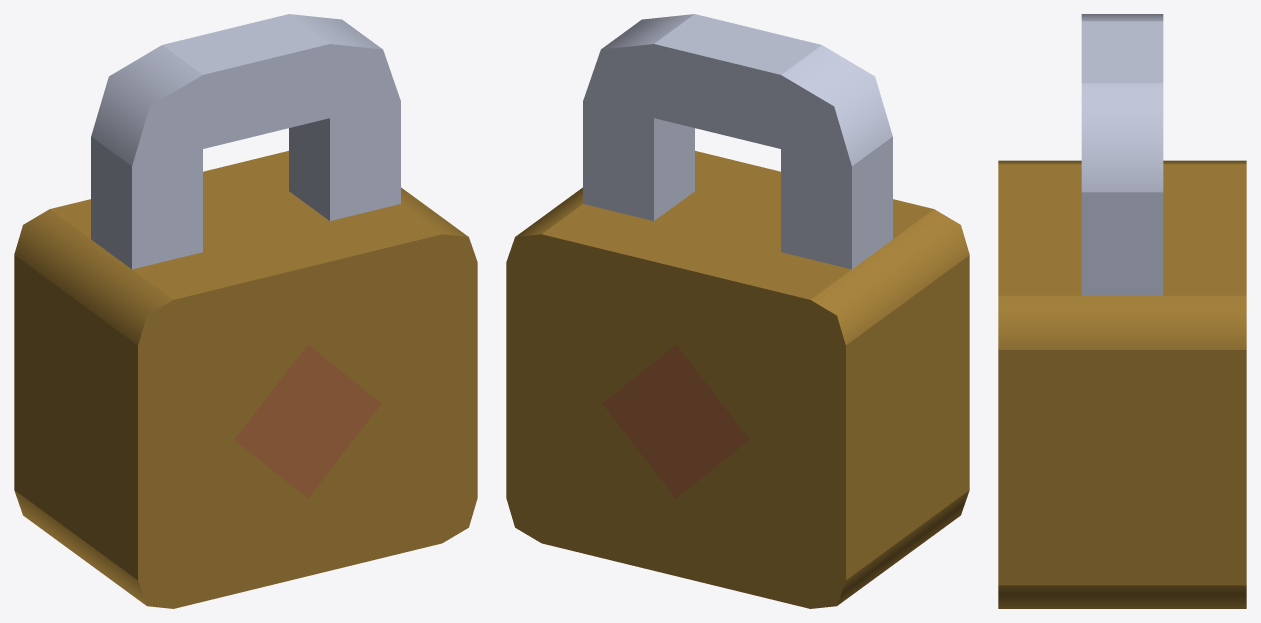
Rendered from lock.glb.
The picture shows the model from 3 angles, left to right: view 1: azimuth 30°, elevation 25°; view 2: azimuth 150°, elevation 25°; view 3: azimuth 270°, elevation 25°; orthographic projection.
Parts seen in each view (by area): view 1: lock; view 2: lock; view 3: lock.
Boxes of the visible parts, <box> form: lock: <box>14,14,477,608</box>; lock: <box>506,14,969,608</box>; lock: <box>998,14,1246,608</box>.
Size of the model in its own units: 0.2932 by 0.4012 by 0.1853.
